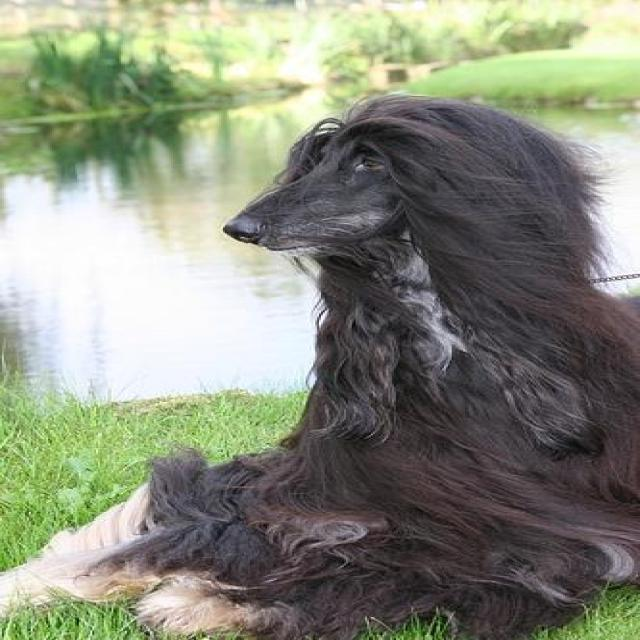afghan_hound: (2, 90, 636, 638)
